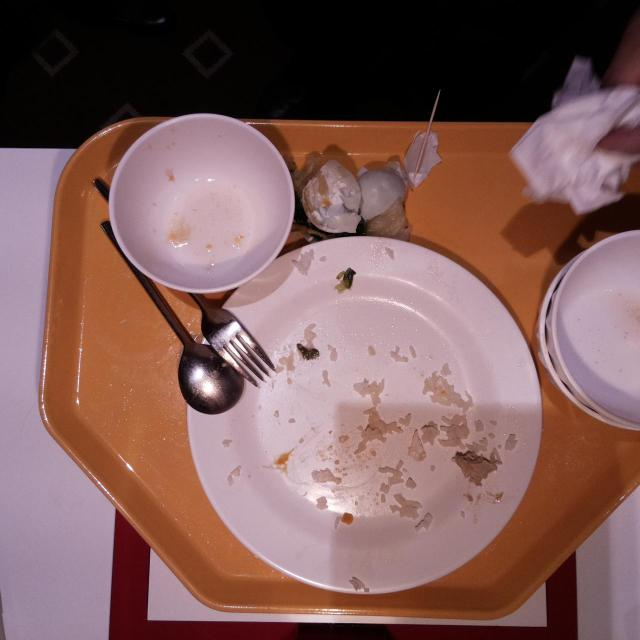Egg-shell: (300, 160, 362, 235), (356, 165, 408, 222)
Rice: (421, 370, 475, 412), (421, 413, 471, 449), (359, 408, 401, 442)
